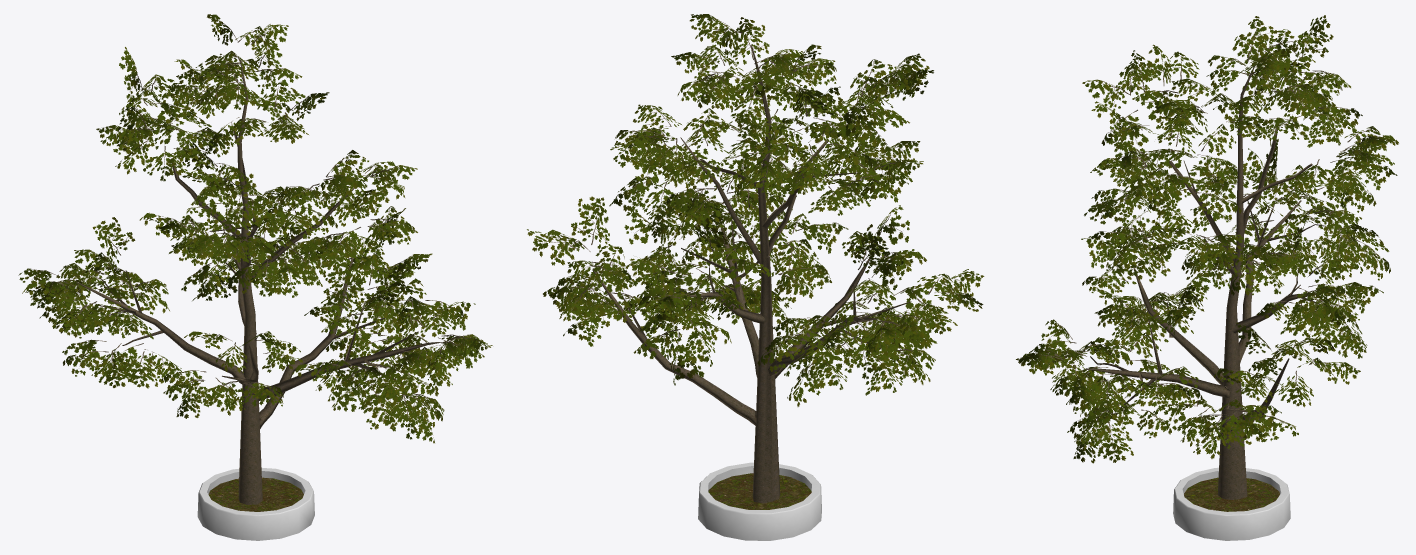
The model's file is nc_tree_04.fbx.
The picture shows the model from 3 angles, left to right: view 1: azimuth 30°, elevation 25°; view 2: azimuth 150°, elevation 25°; view 3: azimuth 270°, elevation 25°; orthographic projection. The views are drawn at different scales.
Visible parts, largest first — view 1: nc_tree_04_LOD0; view 2: nc_tree_04_LOD0; view 3: nc_tree_04_LOD0.
Part boxes in pixels (x1,y1,x2,y2): nc_tree_04_LOD0: (18, 14, 492, 540); nc_tree_04_LOD0: (527, 14, 984, 540); nc_tree_04_LOD0: (1016, 15, 1398, 540).
Size of what is drawn, in the model's own units: 4 by 4.46 by 3.28.
Materials: 3 (3 with a texture image).
